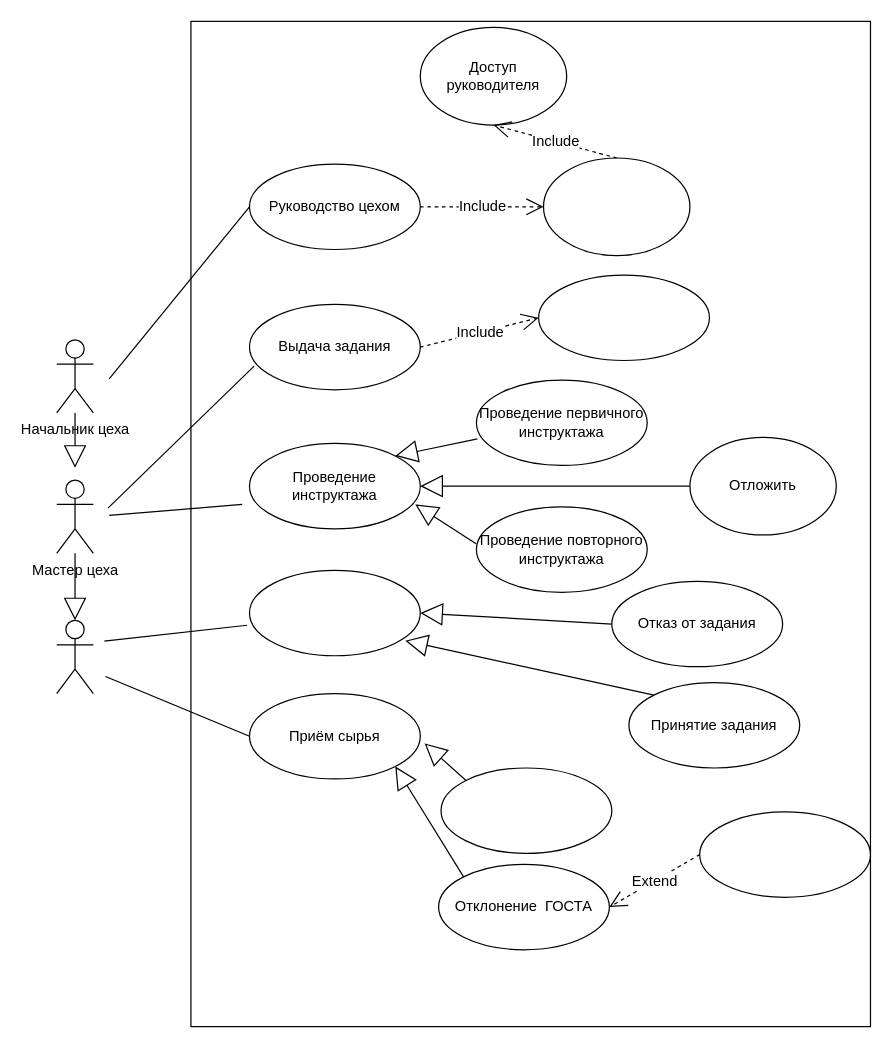
The diagram is 892 pixels wide and 1048 high, and some of its shapes have lost their labels. The centre of each missing label's shape, as x and y in pixels:
Запросы в систему управления: the point at 616,206
Несоответствие: the point at 784,854
Открытие планшета с выданными запросами: the point at 623,317
Подтверждение ГОСТА: the point at 526,810
Просмотр задания: the point at 334,612
Работник: the point at 74,656
